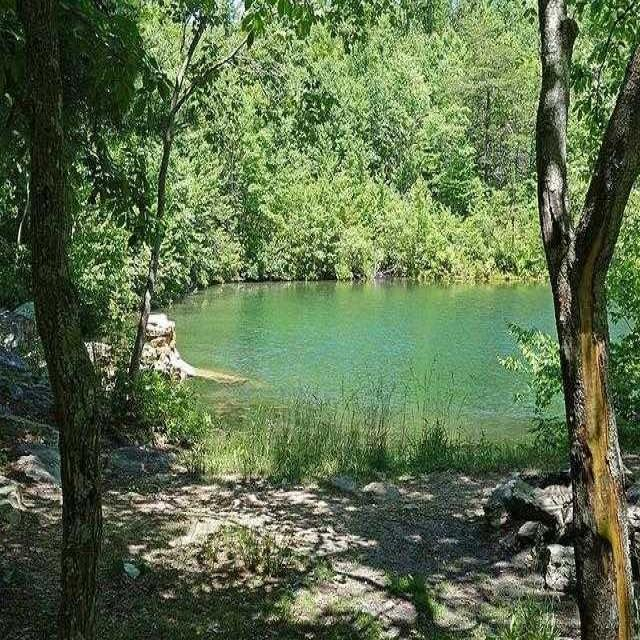Ponds: (162, 276, 568, 422)
